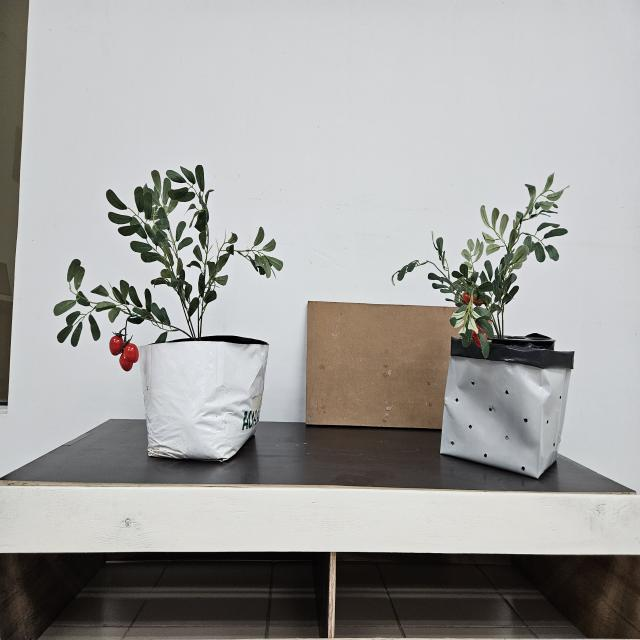Soilbag: (440, 340, 575, 481), (143, 336, 270, 465)
Tomato: (108, 333, 140, 373)
plant: (52, 165, 284, 372), (391, 174, 569, 359)
